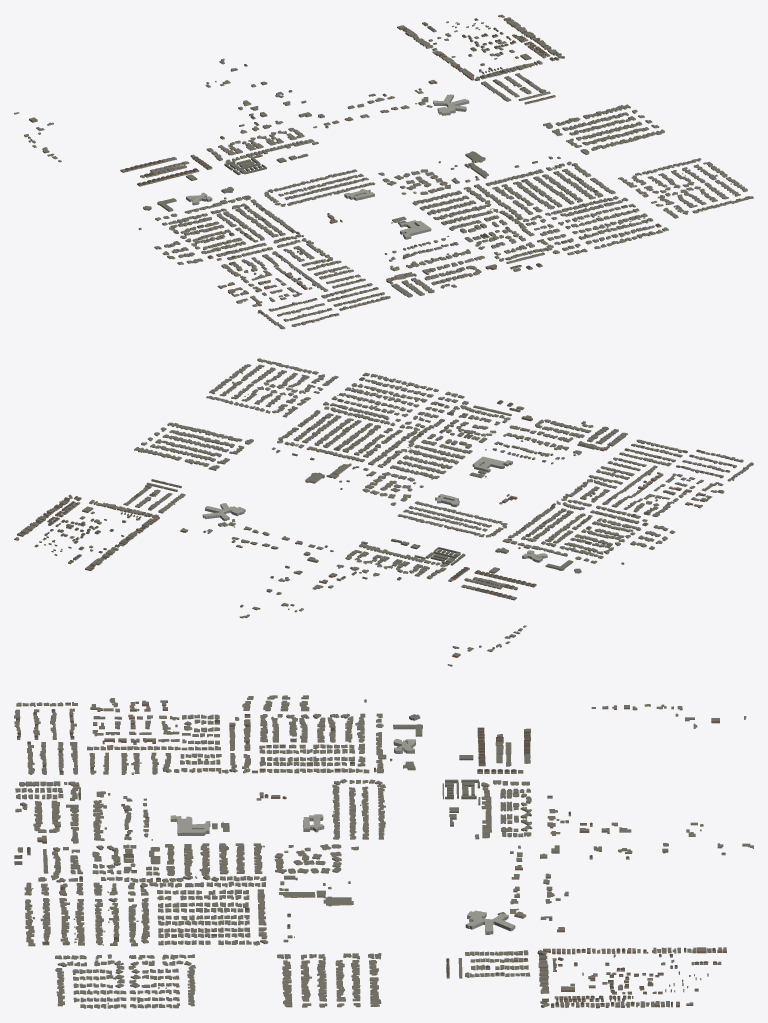
The model's file is Buildings.glb.
The picture shows the model from 3 angles, top to bottom: view 1: azimuth 30°, elevation 25°; view 2: azimuth 150°, elevation 25°; view 3: azimuth 270°, elevation 25°; orthographic projection. The views are drawn at different scales.
Visible parts, largest first — view 1: Buildings; view 2: Buildings; view 3: Buildings.
Part boxes in pixels (x1,y1,x2,y2): Buildings: [14, 14, 753, 329]; Buildings: [14, 358, 753, 666]; Buildings: [14, 695, 753, 1008].
Size of the model in its own units: 2013 by 11.83 by 2019.
13 materials, 8 textured.
